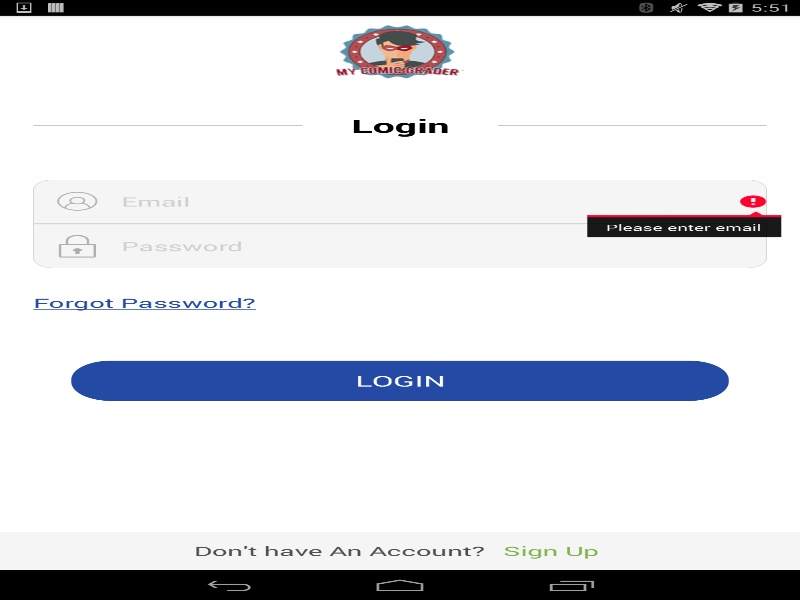Input: (33, 179, 766, 223), (33, 224, 766, 268)
